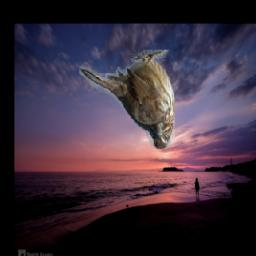Sparrow: (79, 50, 175, 149)
